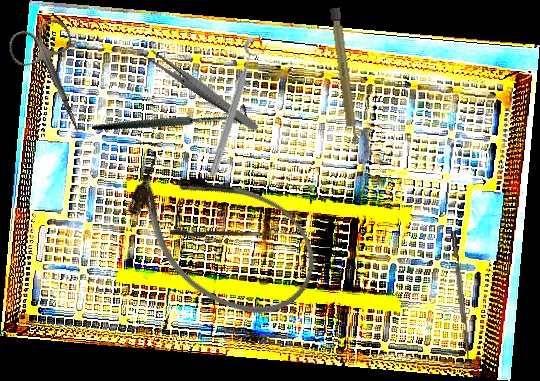Cannula: (104, 132, 338, 341)
Chopper: (450, 229, 478, 369)
Dressing Forceps: (144, 48, 262, 133)
Fixation Ring: (205, 36, 270, 180)
Hook Surgical: (91, 51, 252, 185), (169, 227, 300, 238)
Iris Scissors: (4, 14, 107, 147)
Scalpel Handle: (328, 7, 360, 146)
